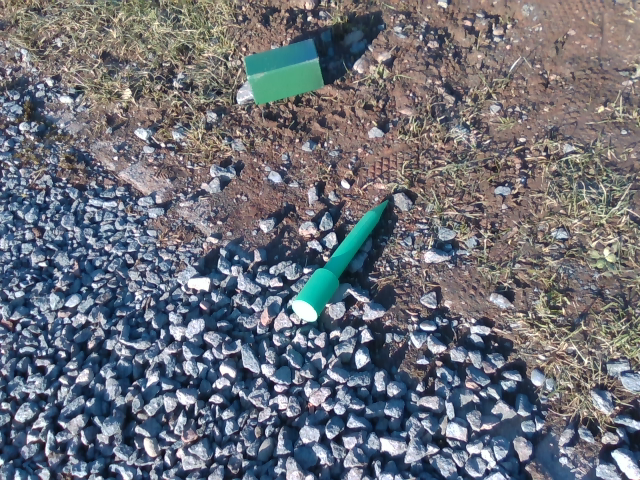Probe: (289, 199, 389, 323)
